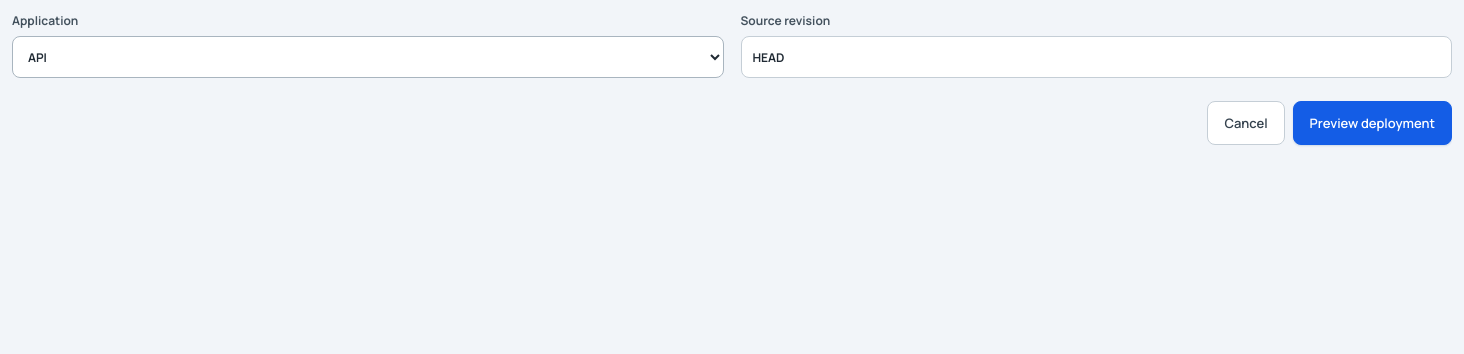
Test: requires a fresh preview when reviewed inputs changed before acceptance
The width and height of the screenshot is (1464, 354).
Click the button "Preview deployment".
click(1372, 123)  # box x1=1293 y1=101 x2=1452 y2=145
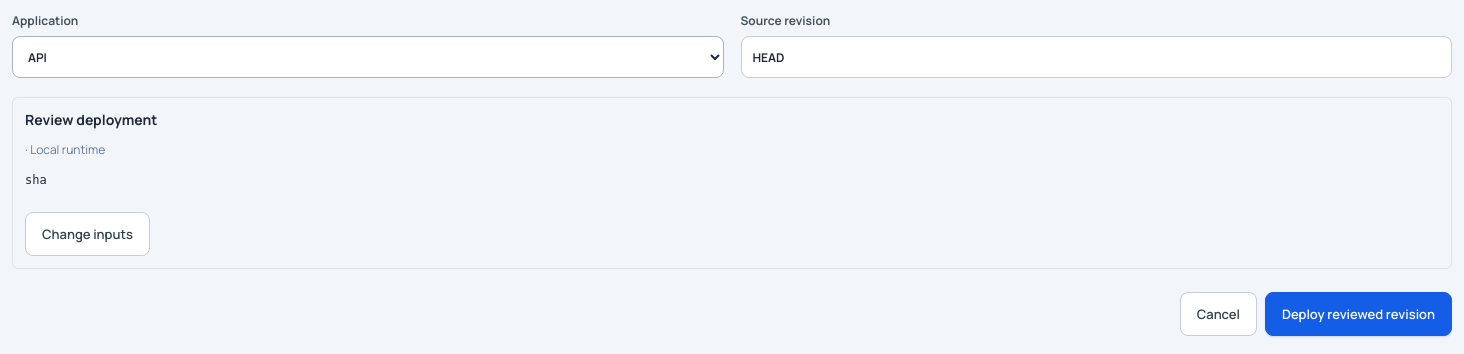
Click the button "Deploy reviewed revision".
click(1358, 314)  # box x1=1265 y1=292 x2=1452 y2=336
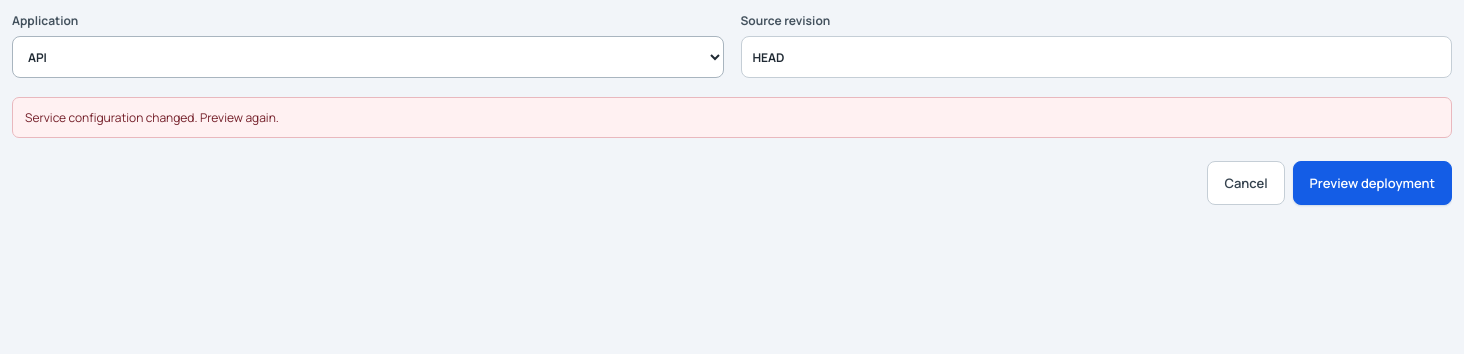
Expected: the text "Service configuration changed. Preview again." is shown, x1=12 y1=97 x2=1452 y2=138
Expected: the button "Deploy reviewed revision" is gone
Expected: the button "Preview deployment" is shown, x1=1293 y1=161 x2=1452 y2=205
